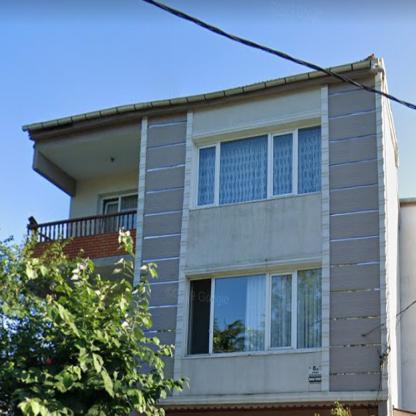window: (188, 267, 321, 355), (196, 124, 321, 207), (101, 193, 138, 215)
